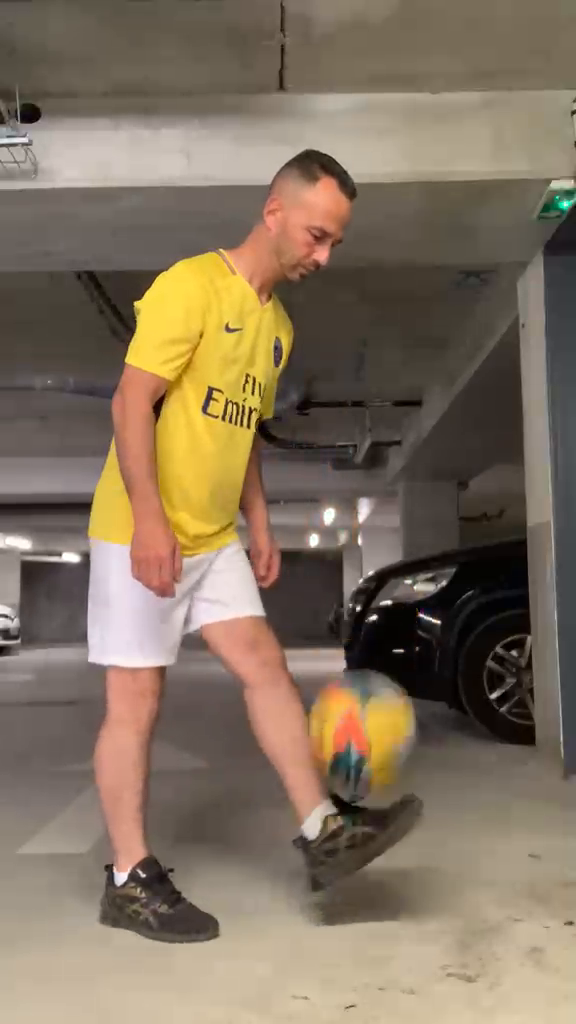ball: (296, 669, 428, 801)
